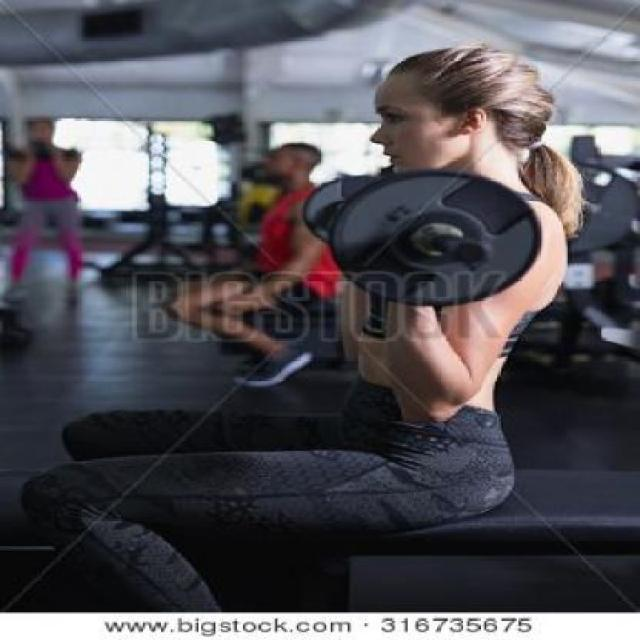barbell: (329, 167, 547, 318)
